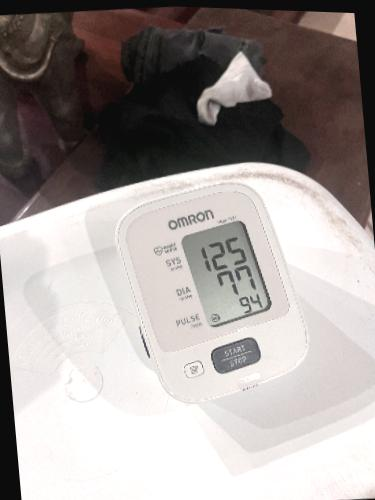bpm: (179, 216, 274, 332)
